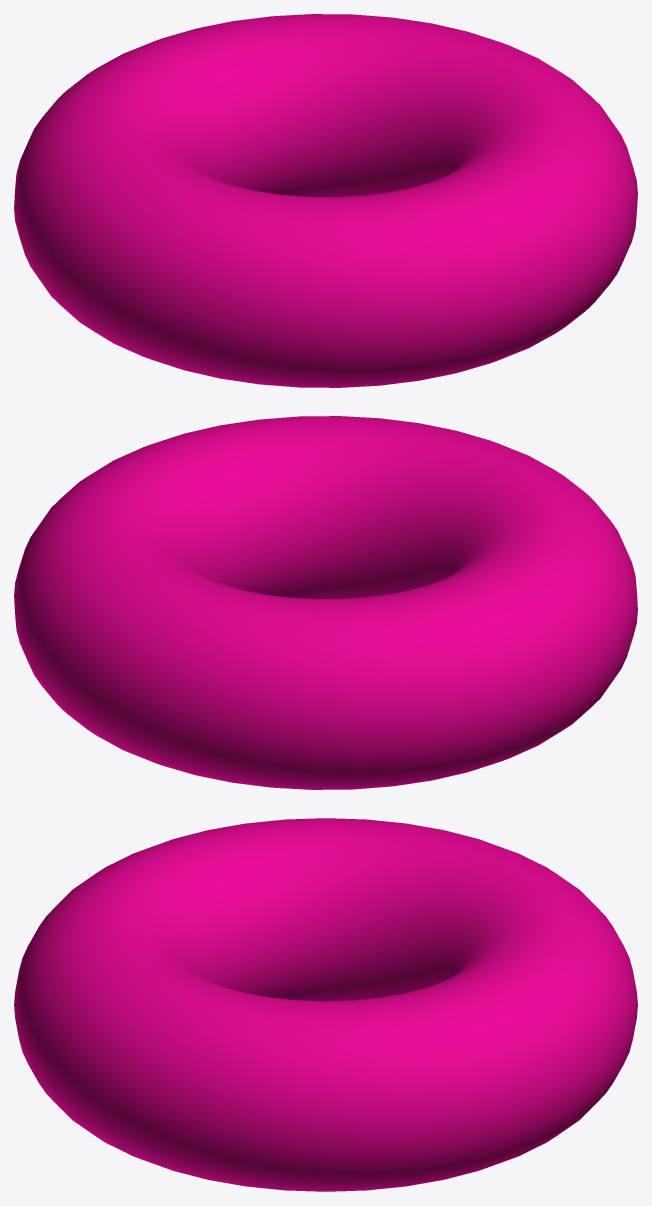
File: torrus.glb
The picture shows the model from 3 angles, top to bottom: view 1: azimuth 30°, elevation 25°; view 2: azimuth 150°, elevation 25°; view 3: azimuth 270°, elevation 25°; orthographic projection.
Visible parts, largest first — view 1: Torus.002; view 2: Torus.002; view 3: Torus.002.
Boxes of the visible parts, x1=… form: Torus.002: x1=14, y1=14, x2=637, y2=387; Torus.002: x1=14, y1=416, x2=637, y2=789; Torus.002: x1=14, y1=818, x2=637, y2=1191.
Bounding box in the file's own units: 2.88 × 0.88 × 2.88.
